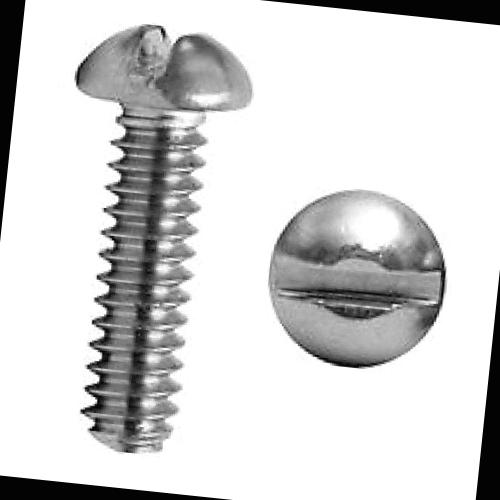screw: (262, 179, 456, 381)
